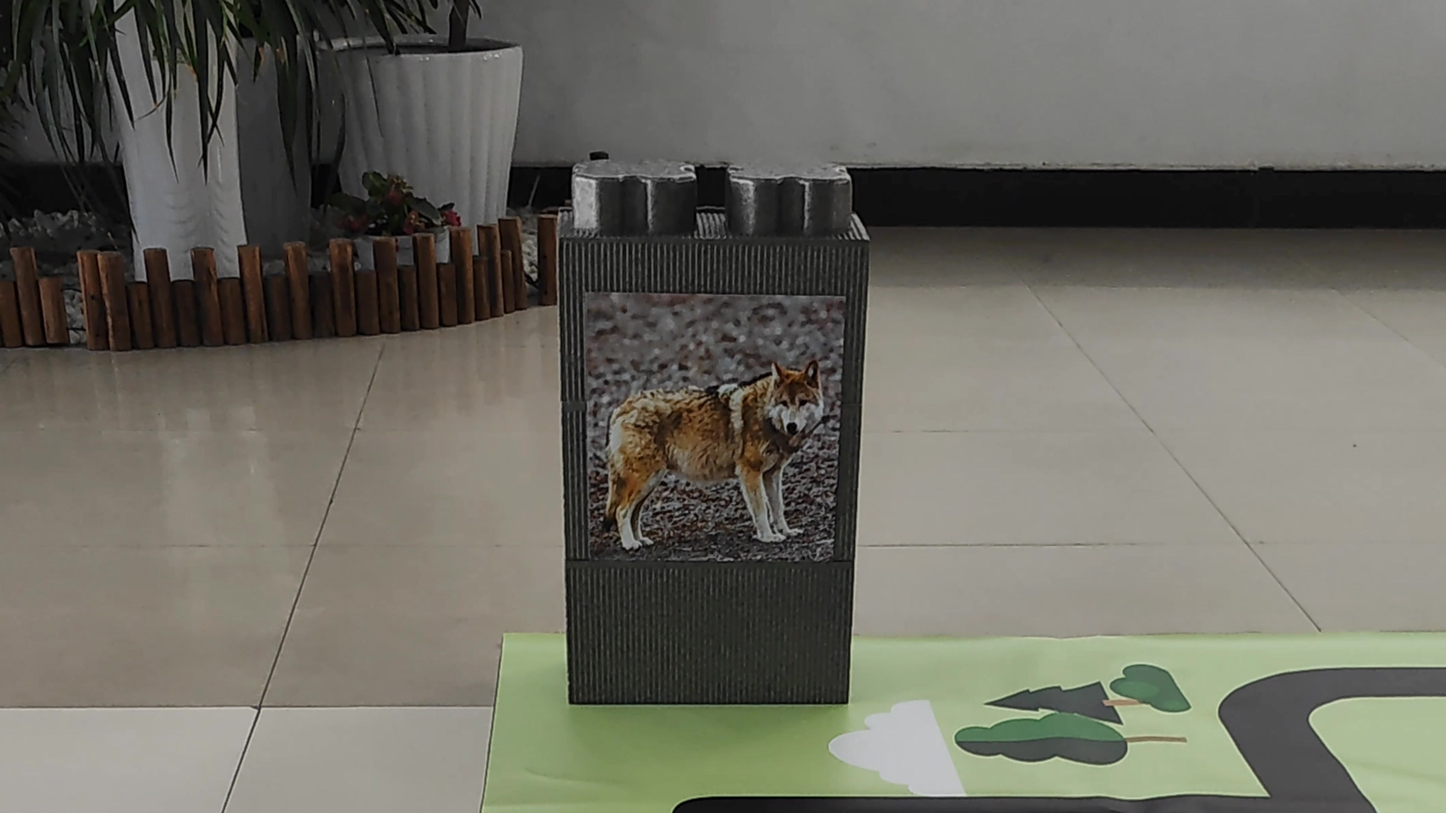wolf: (578, 329, 836, 563)
